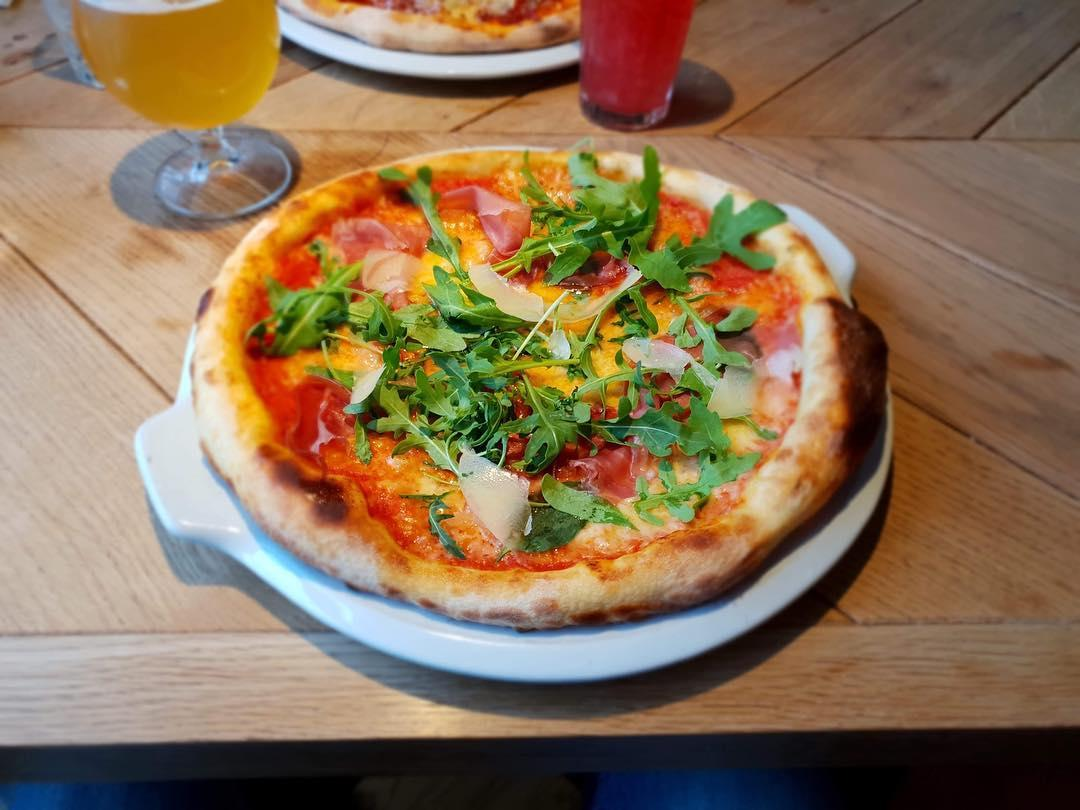Arugula: (632, 196, 778, 297), (267, 290, 480, 351), (402, 379, 548, 453), (558, 392, 733, 451), (386, 169, 475, 278), (640, 445, 762, 516), (544, 191, 646, 258), (670, 300, 755, 373), (526, 483, 621, 546), (458, 309, 534, 379), (530, 158, 658, 197)
Ham: (258, 377, 348, 471), (342, 218, 425, 289), (569, 441, 655, 498), (470, 188, 535, 257), (709, 254, 775, 292)
Pizza: (197, 148, 887, 634)
